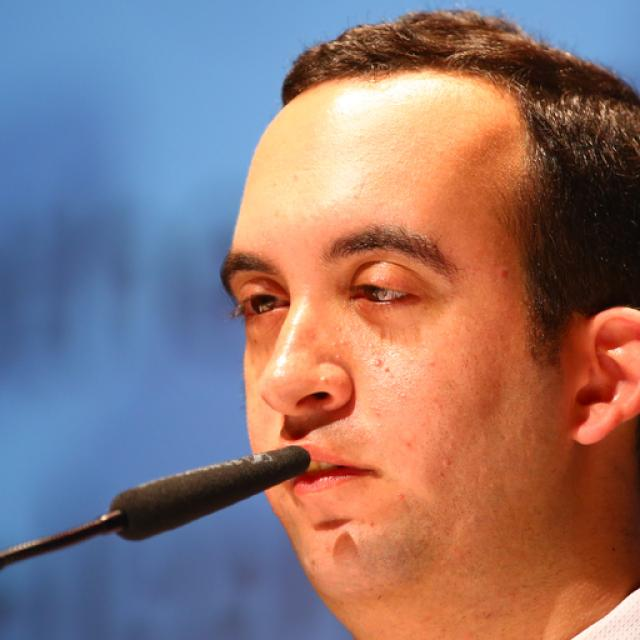Acne: (365, 356, 387, 373), (314, 372, 334, 389), (324, 338, 349, 351), (437, 457, 458, 470), (328, 351, 346, 364), (363, 342, 381, 353)
